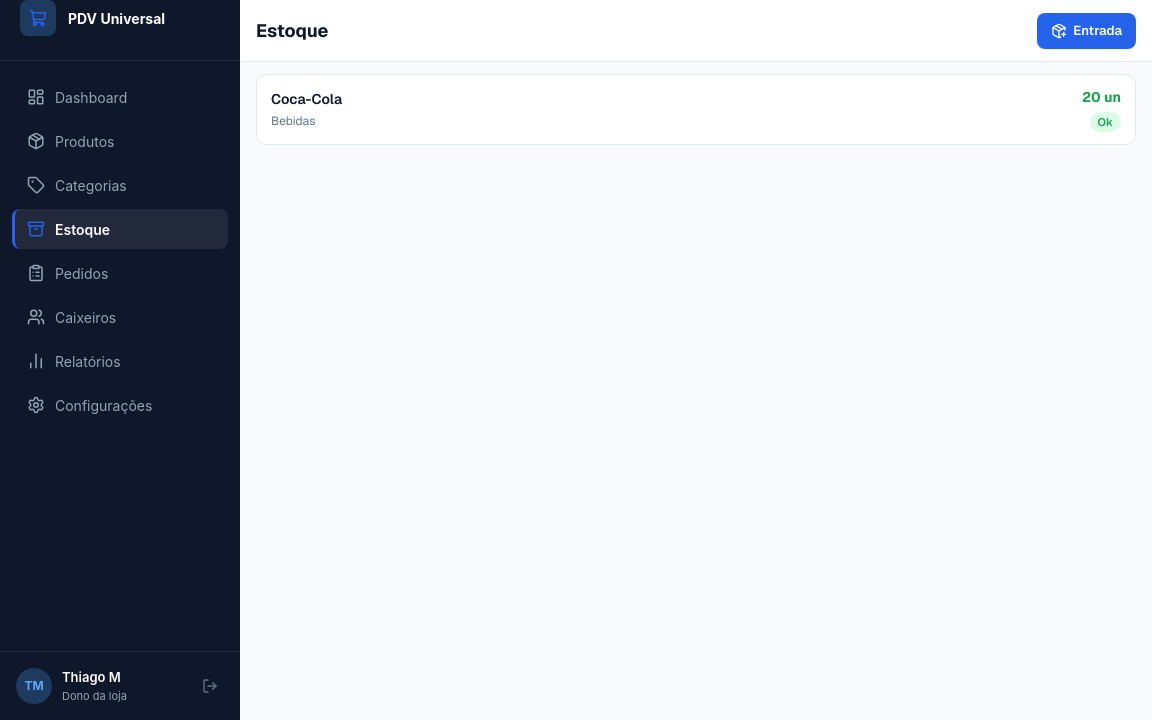
Test case: EstoquePage › closes the entrada sheet when the close button is clicked
Click the button "Entrada": coordinates (1087, 30) [1037,12,1136,48]
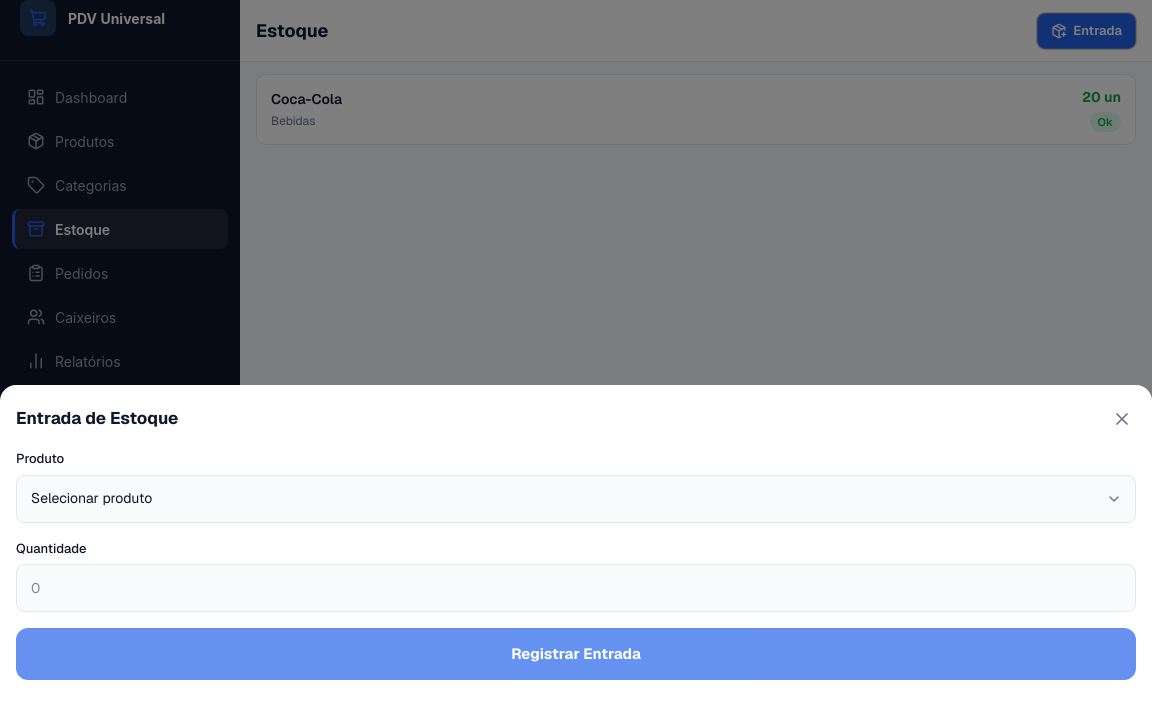
Expected: the text "Entrada de Estoque" is shown, [16,406,178,432]
Click the button named "fechar": coordinates (1122, 419) [1108,405,1136,433]
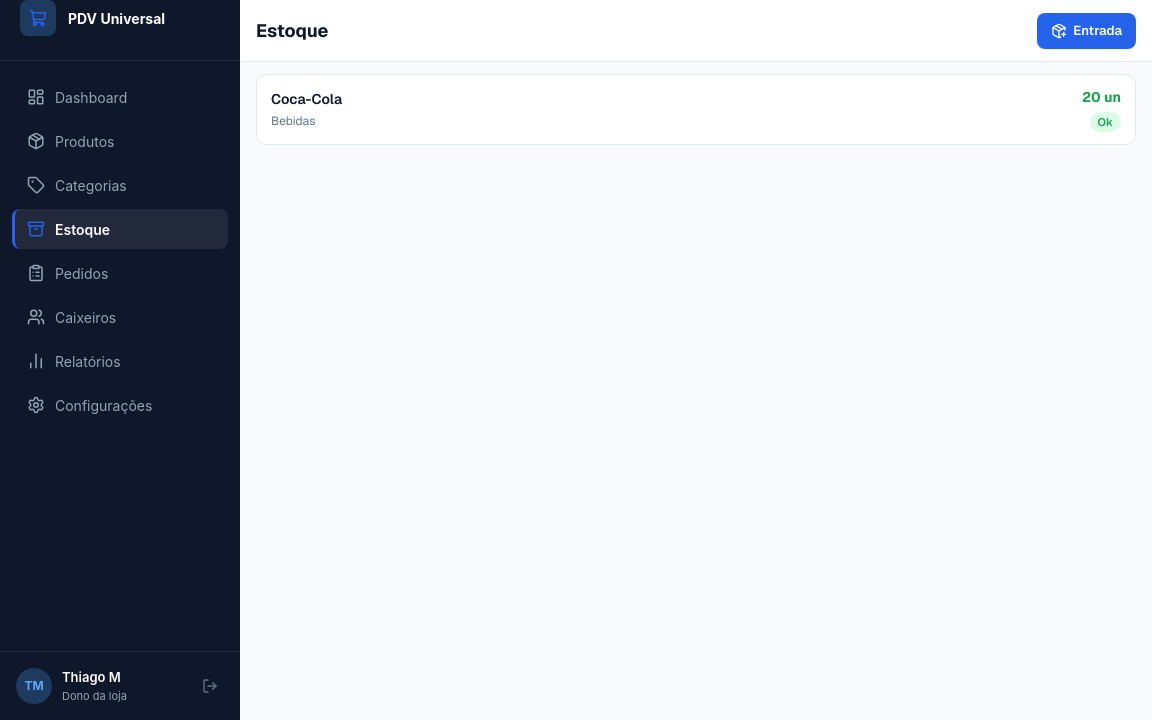
Expected: the text "Entrada de Estoque" is gone
